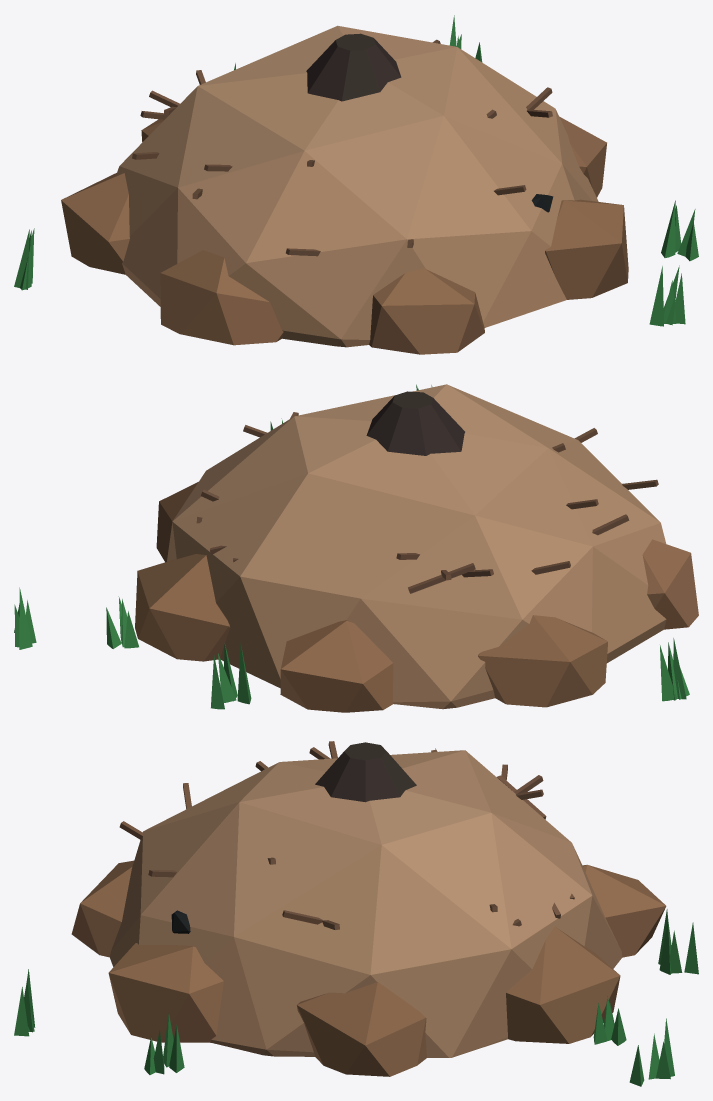
Rendered from lair-anthill.glb.
3 renders of one model, top to bottom at view 1: azimuth 30°, elevation 25°; view 2: azimuth 150°, elevation 25°; view 3: azimuth 270°, elevation 25°, orthographic. The views are drawn at different scales.
Parts seen in each view (by area): view 1: lair-anthill; view 2: lair-anthill; view 3: lair-anthill.
Part boxes in pixels (x1,y1,x2,y2): lair-anthill: [14, 15, 698, 354]; lair-anthill: [14, 384, 698, 712]; lair-anthill: [14, 741, 698, 1086].
Size of the model in its own units: 3.78 by 1.25 by 3.82.
